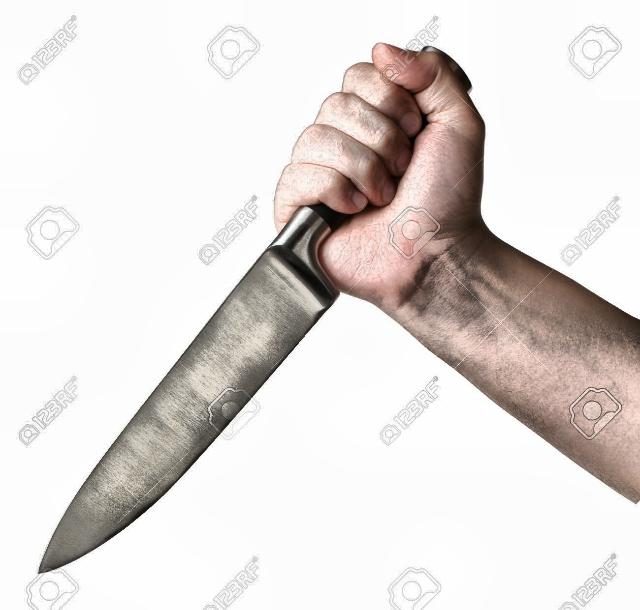knife: (33, 96, 419, 586)
